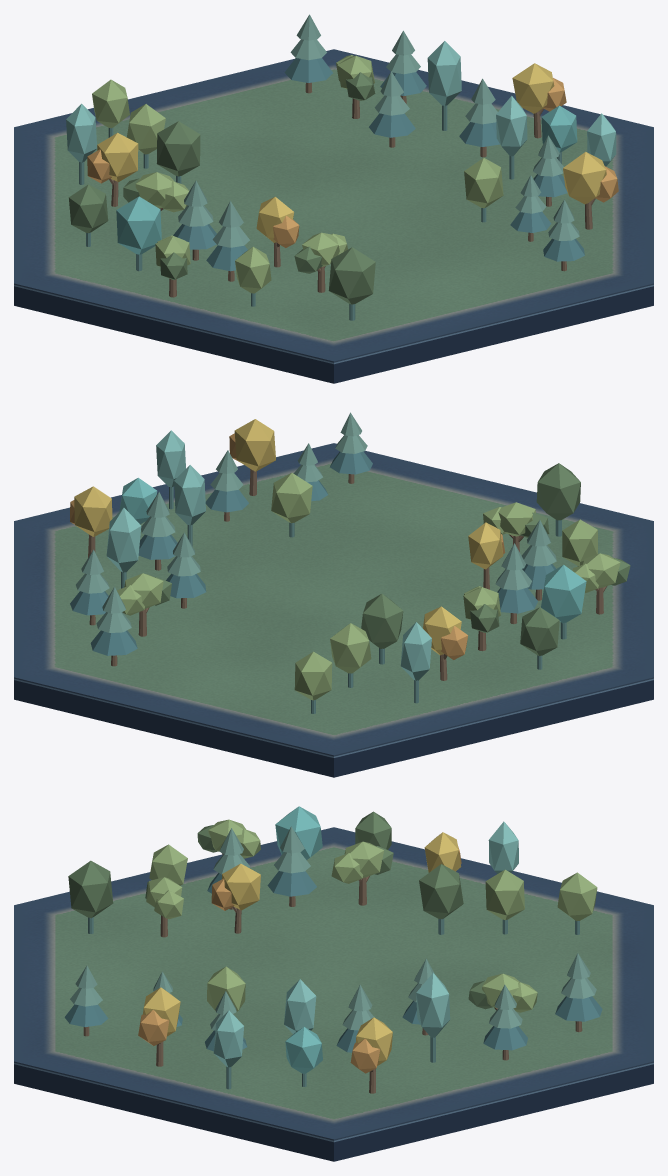
The model's file is campus_tile_forest_v01.glb.
The picture shows the model from 3 angles, top to bottom: view 1: azimuth 30°, elevation 25°; view 2: azimuth 150°, elevation 25°; view 3: azimuth 270°, elevation 25°; orthographic projection.
Parts seen in each view (by area): view 1: Forest terrain, Forest foliage; view 2: Forest terrain, Forest foliage; view 3: Forest terrain, Forest foliage.
Boxes of the visible parts, x1,y1,x2,y2 form: Forest terrain: [14, 49, 653, 383]; Forest foliage: [66, 14, 618, 320]; Forest terrain: [14, 443, 653, 777]; Forest foliage: [70, 412, 630, 713]; Forest terrain: [14, 827, 653, 1161]; Forest foliage: [64, 806, 602, 1093].
Size of the model in its own units: 36 by 5.99 by 31.18.
Materials: 2 (2 with a texture image).
